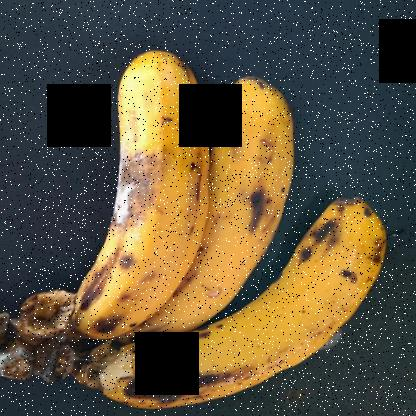overripe: (106, 200, 387, 413), (67, 34, 211, 362), (190, 66, 308, 278)
rotten: (76, 154, 182, 240)
